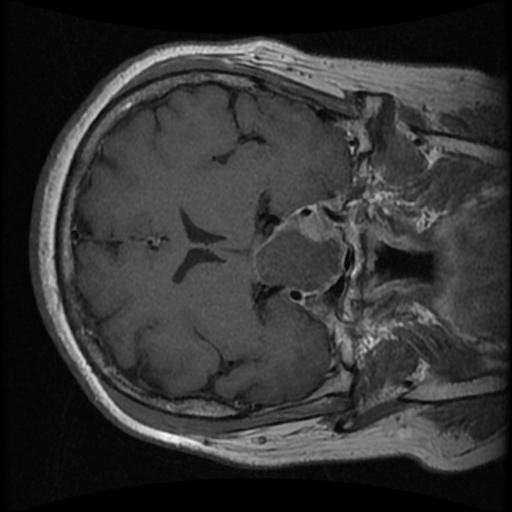pituitary tumour: (254, 214, 344, 292)
